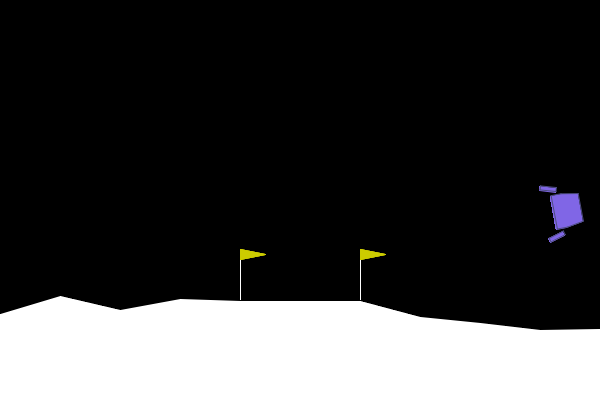lander: (538, 178, 588, 244)
